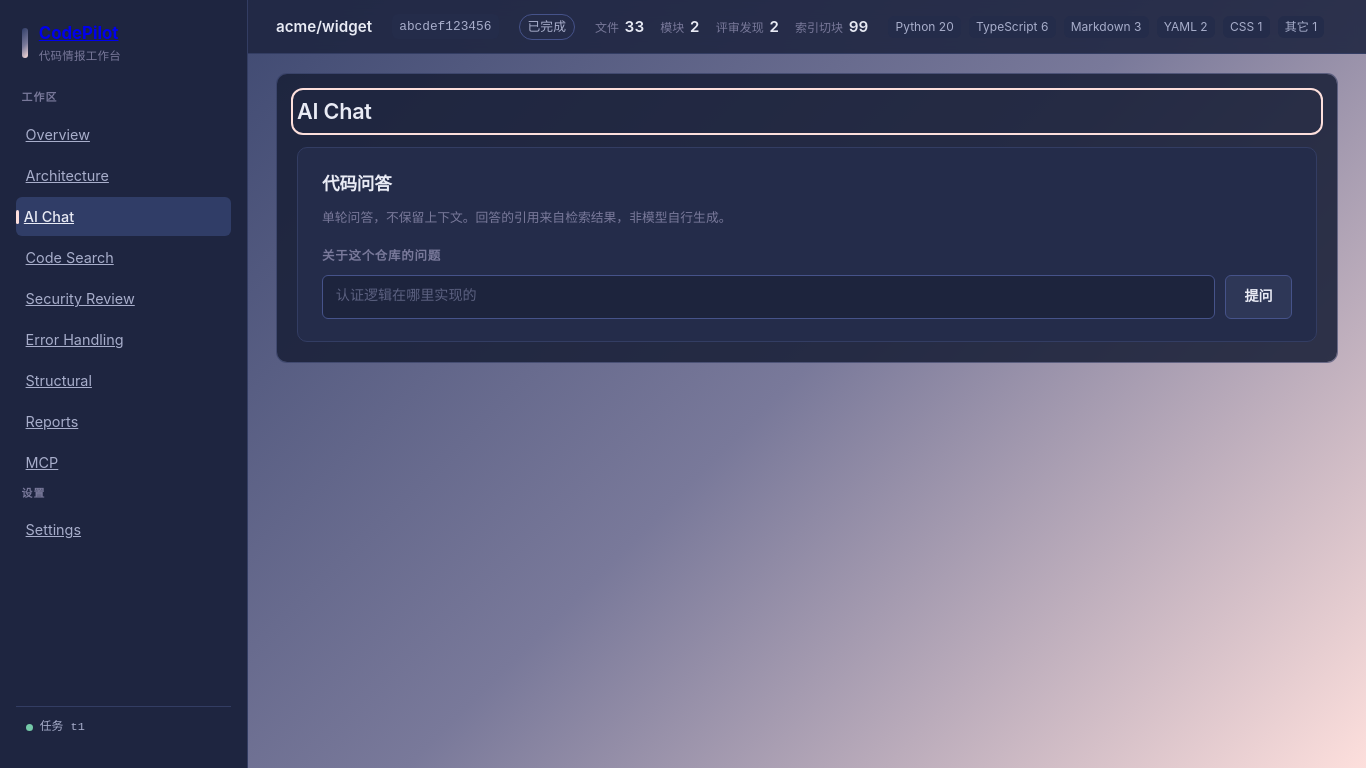
AI Chat（AE-20） › 找到时引用含路径、起止行与符号名
Expected: the heading "代码问答" is shown, [322,173,392,194]
Type "怎么校验" into the field labelled "关于这个仓库的问题" at (769,297), box [322,275,1216,319]
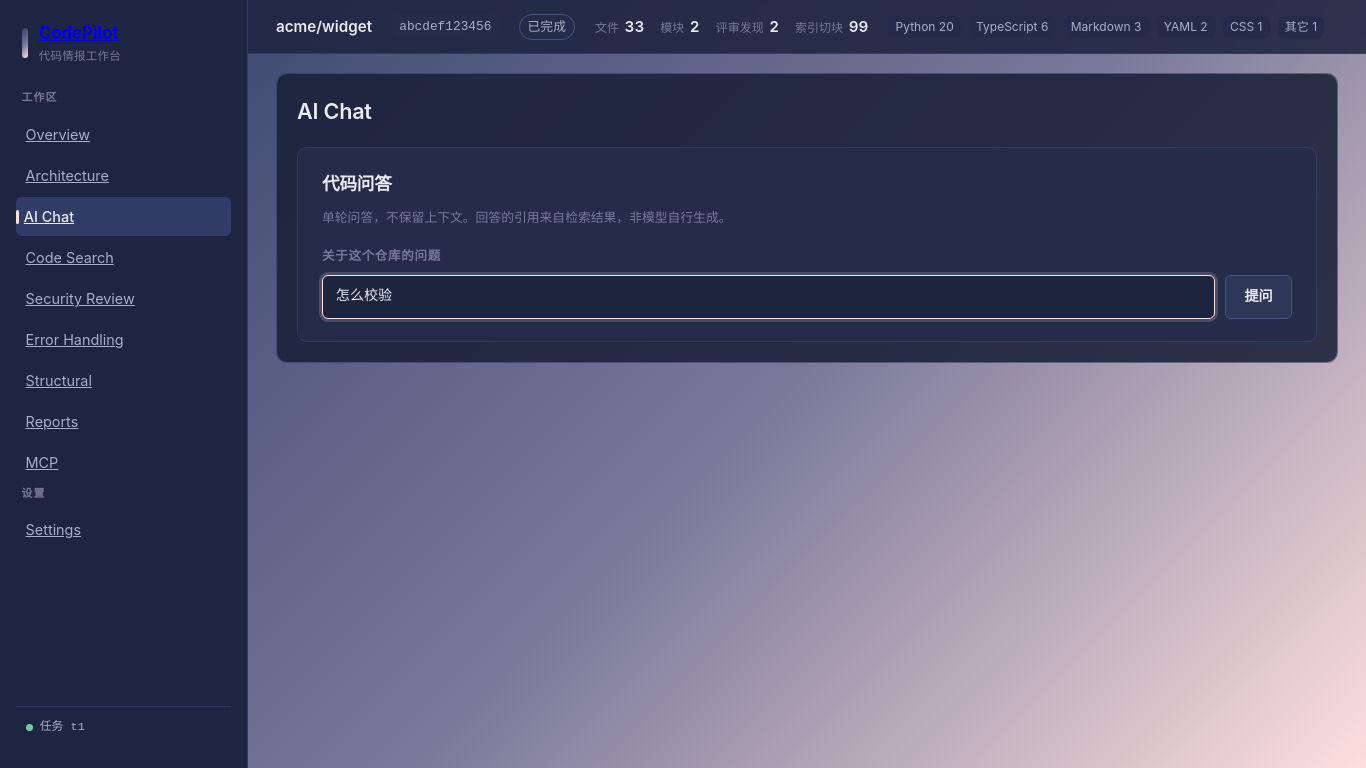
Click the button "提问" at (1258,297), box [1225,275,1292,319]
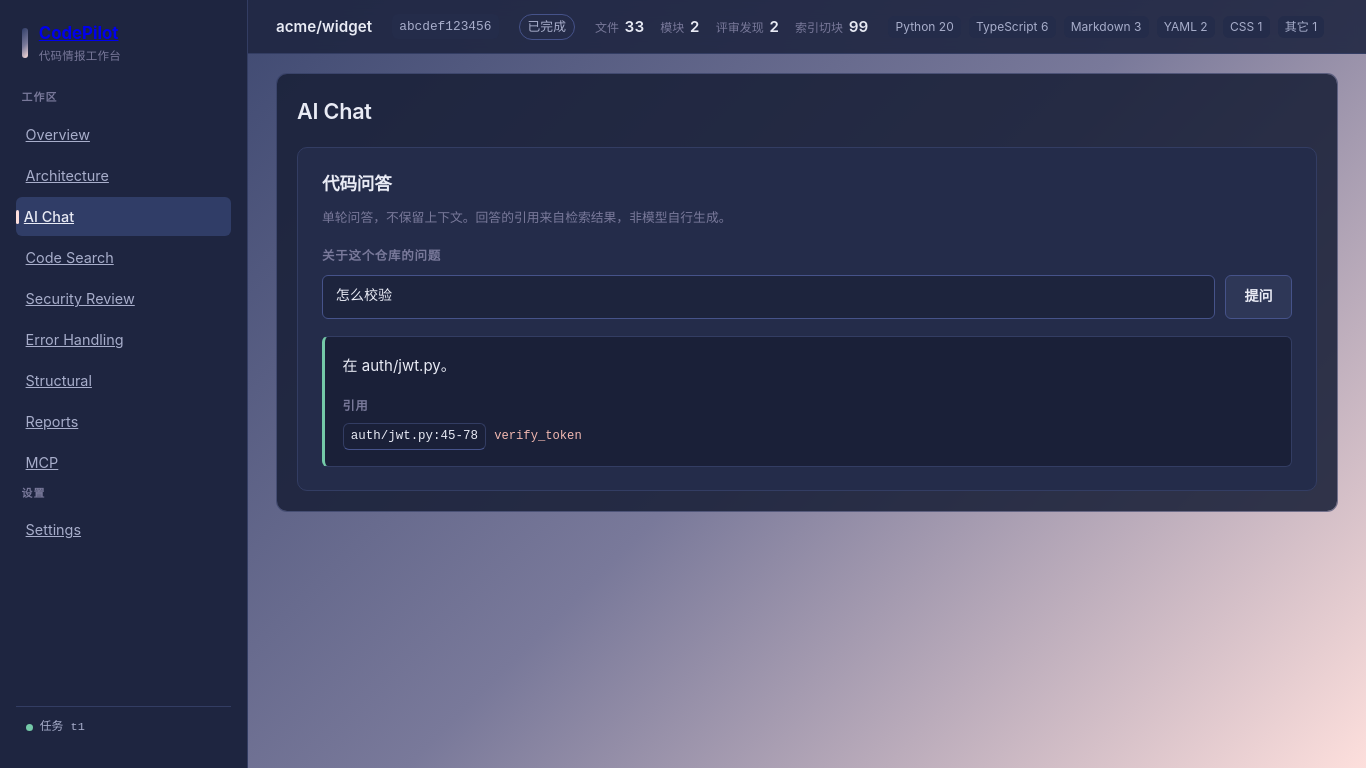
Expected: the heading "引用" is shown, [343,398,368,413]
Expected: the link "auth/jwt.py:45-78" is shown, [343,423,486,450]
Expected: the text "verify_token" is shown, [494,427,582,446]
